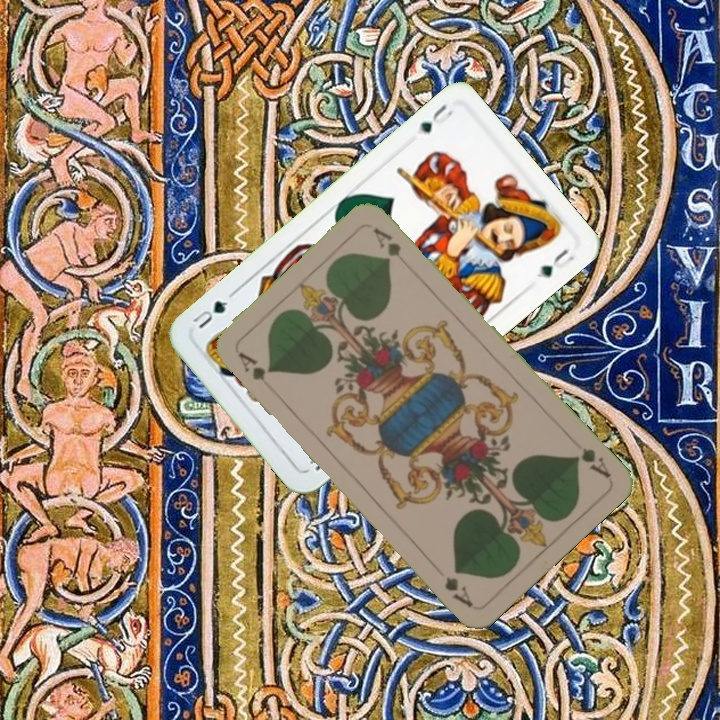GA: (233, 347, 278, 395), (568, 443, 613, 481)
GU: (412, 100, 455, 138)
